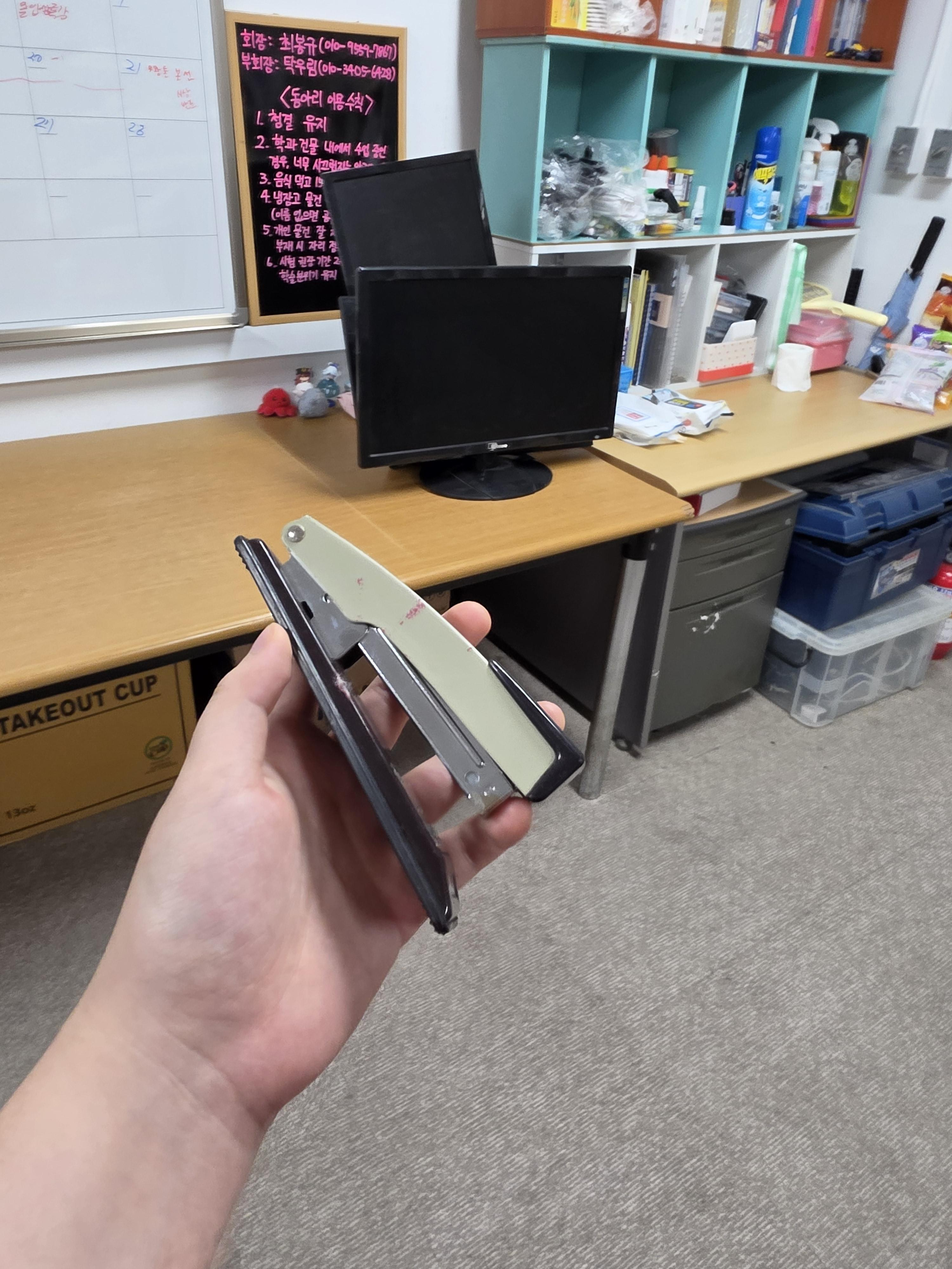stapler: (234, 514, 585, 935)
tissue: (770, 341, 814, 393)
